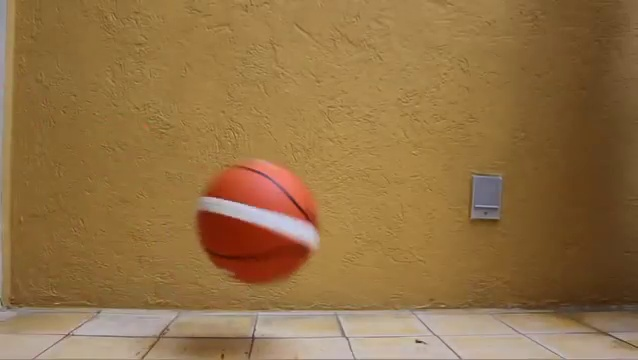ball: (196, 155, 321, 286)
